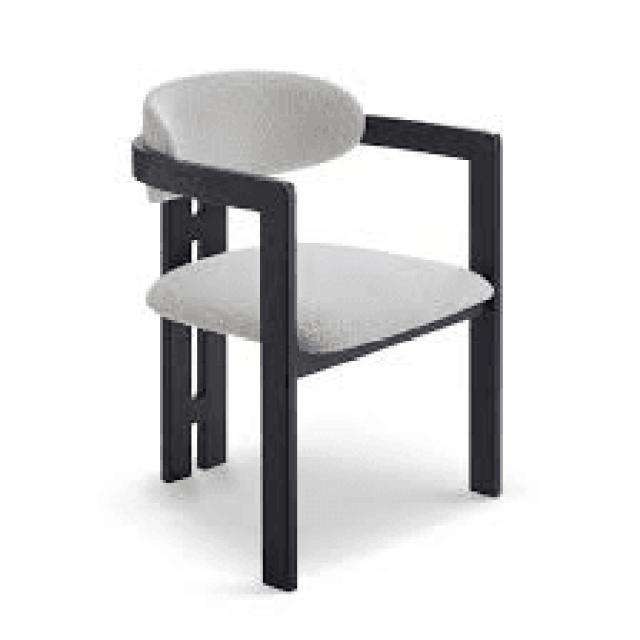chair: (128, 63, 508, 602), (138, 75, 500, 327)
